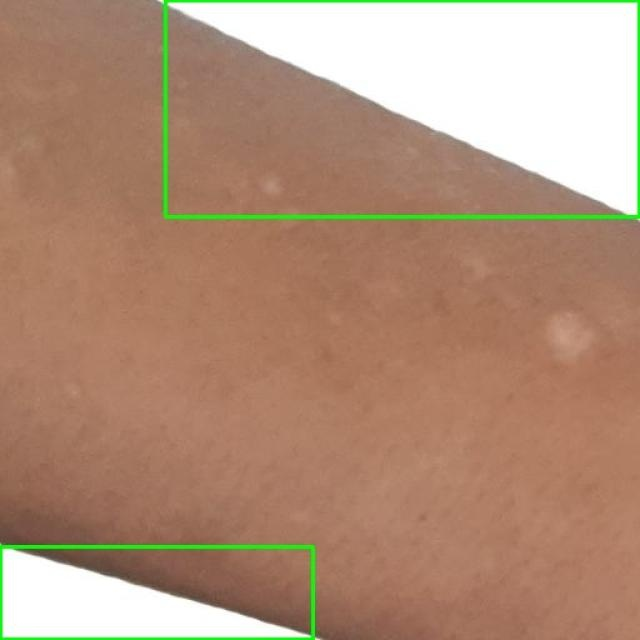Atopic Dermatitis: (165, 0, 639, 216), (0, 546, 312, 639)
